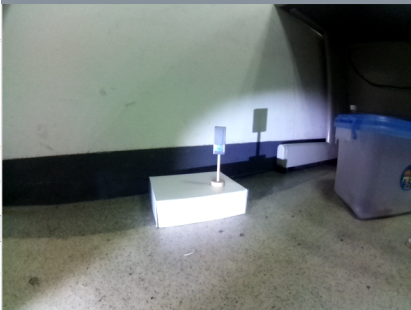Green: (211, 124, 228, 159)
